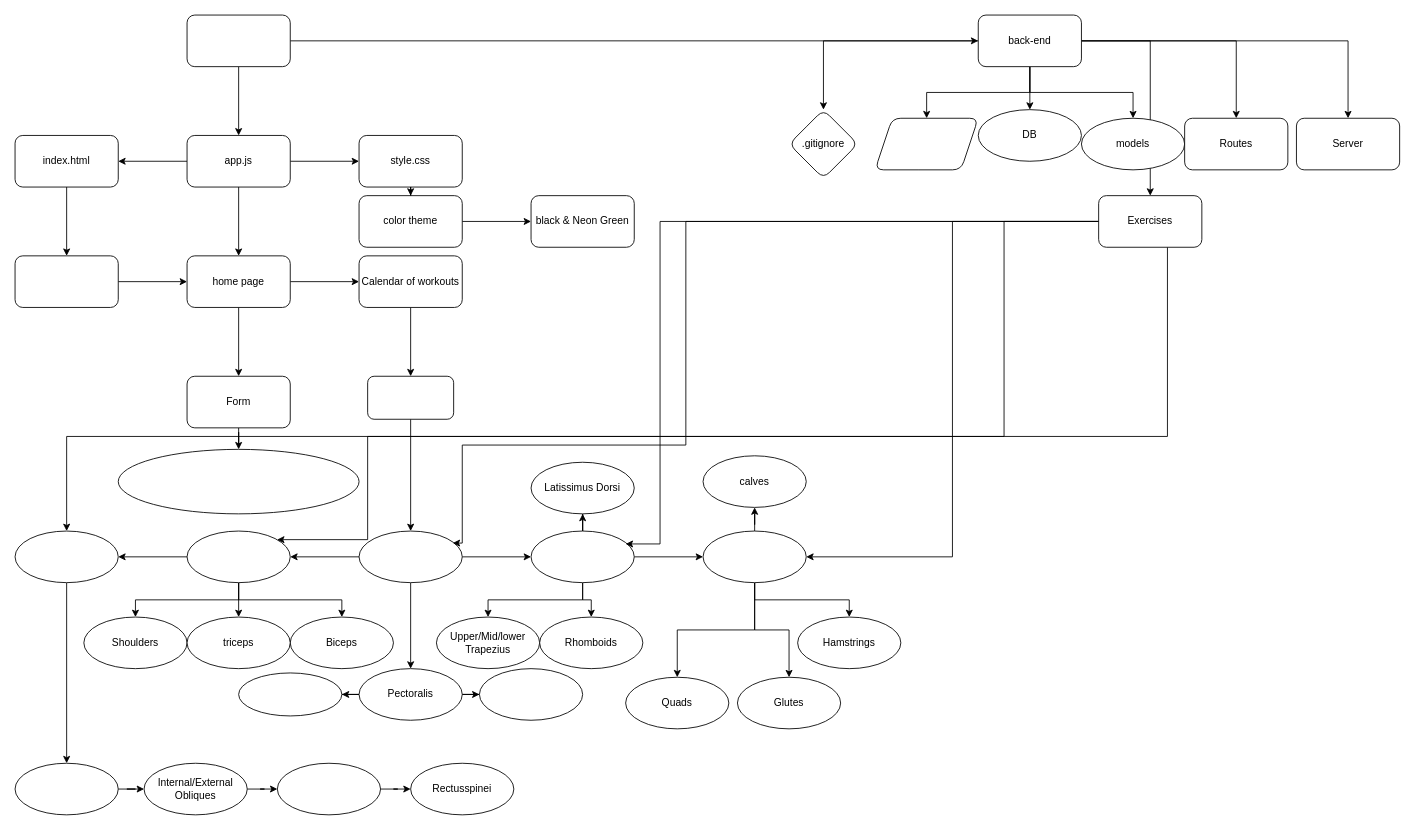
Image size: 1415x830. Some labels were removed from this diagram. Each missing label, with the centre of its shape:
"Abs" belongs at point (66, 556).
"Arms" belongs at point (238, 556).
"Back" belongs at point (582, 556).
"Chest" belongs at point (410, 556).
"controllers" belongs at point (926, 143).
"Front-end" belongs at point (238, 40).
"Gender: Age: How much weight would you like to lose" belongs at point (238, 481).
"Landing Page" belongs at point (66, 281).
"Legs" belongs at point (754, 556).
"Lower Pectoralis" belongs at point (531, 694).
"Random Workouts" belongs at point (410, 397).
"Rectus Abdominus" belongs at point (66, 788).
"Transverse Abdominis" belongs at point (328, 788).
"Upper Pectoralis" belongs at point (290, 694).
